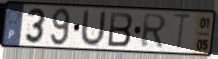3: (25, 7, 47, 45)
9: (49, 7, 73, 48)
B: (106, 11, 135, 48)
R: (139, 13, 168, 49)
T: (172, 12, 194, 53)
U: (78, 8, 108, 49)
